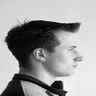ear: (29, 43, 51, 67)
